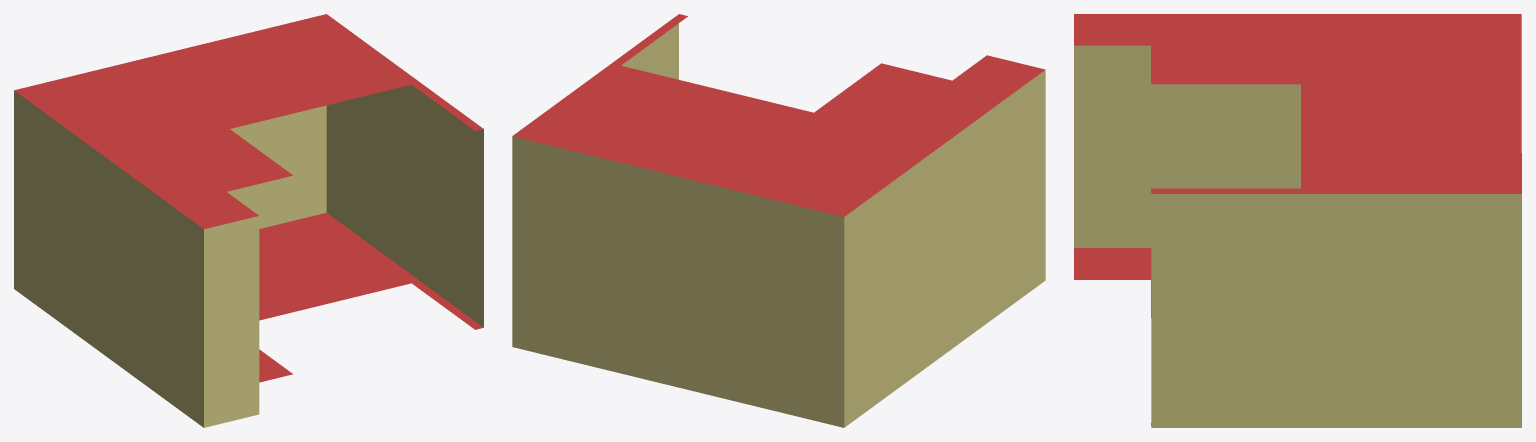
3 renders of one model, left to right at view 1: azimuth 30°, elevation 25°; view 2: azimuth 150°, elevation 25°; view 3: azimuth 270°, elevation 25°, orthographic. The views are drawn at different scales.
Size of the model in its own units: 8.94 by 9.41 by 5.43.
